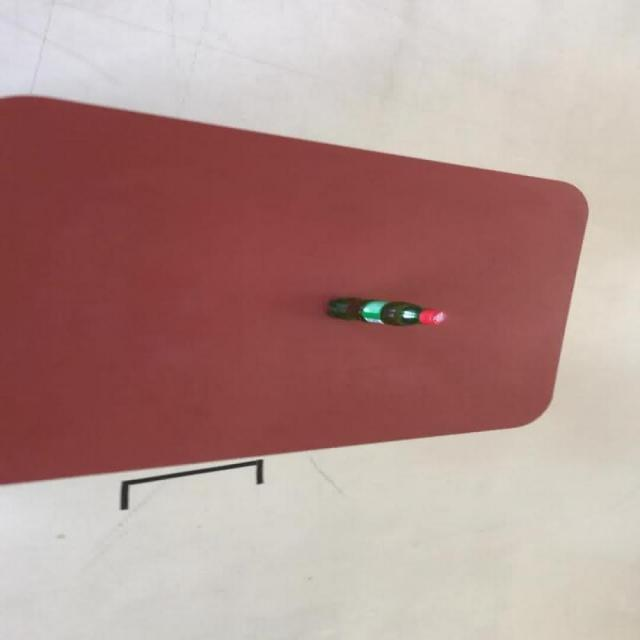Guarana: (324, 295, 446, 327)
